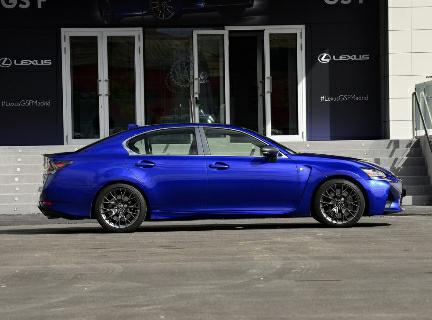雷克萨斯-GSF: (34, 119, 412, 234)
